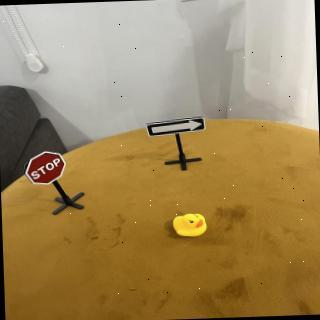duck_regular: (172, 213, 210, 240)
sign_oneway_right: (146, 117, 208, 140)
sign_stop: (24, 152, 69, 188)
